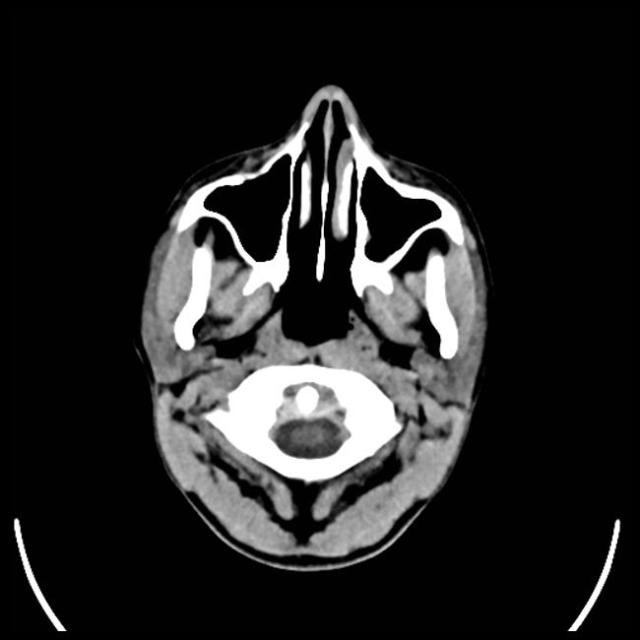lesion: (134, 81, 495, 574)
